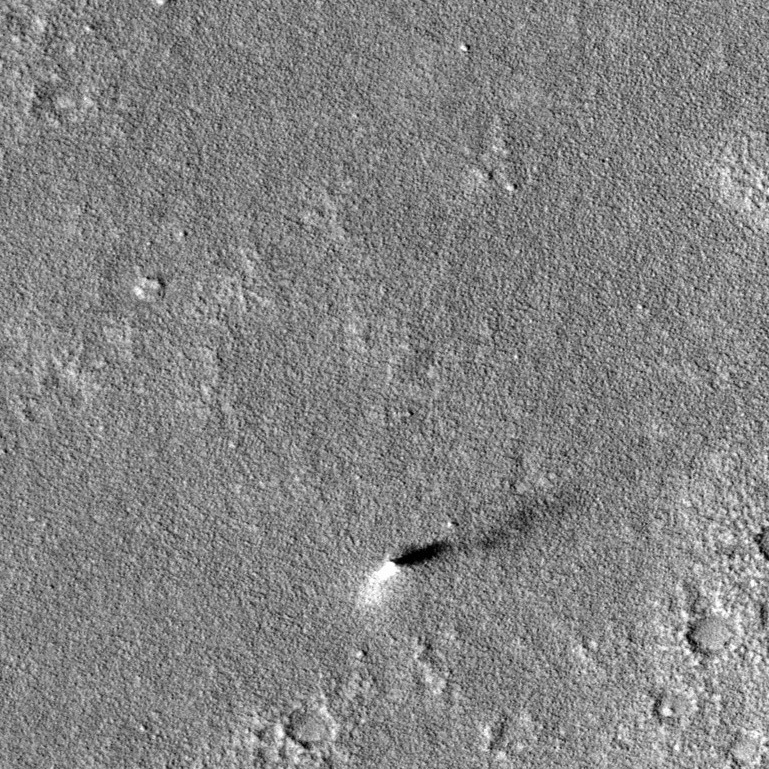dust_devil: (355, 485, 593, 613)
